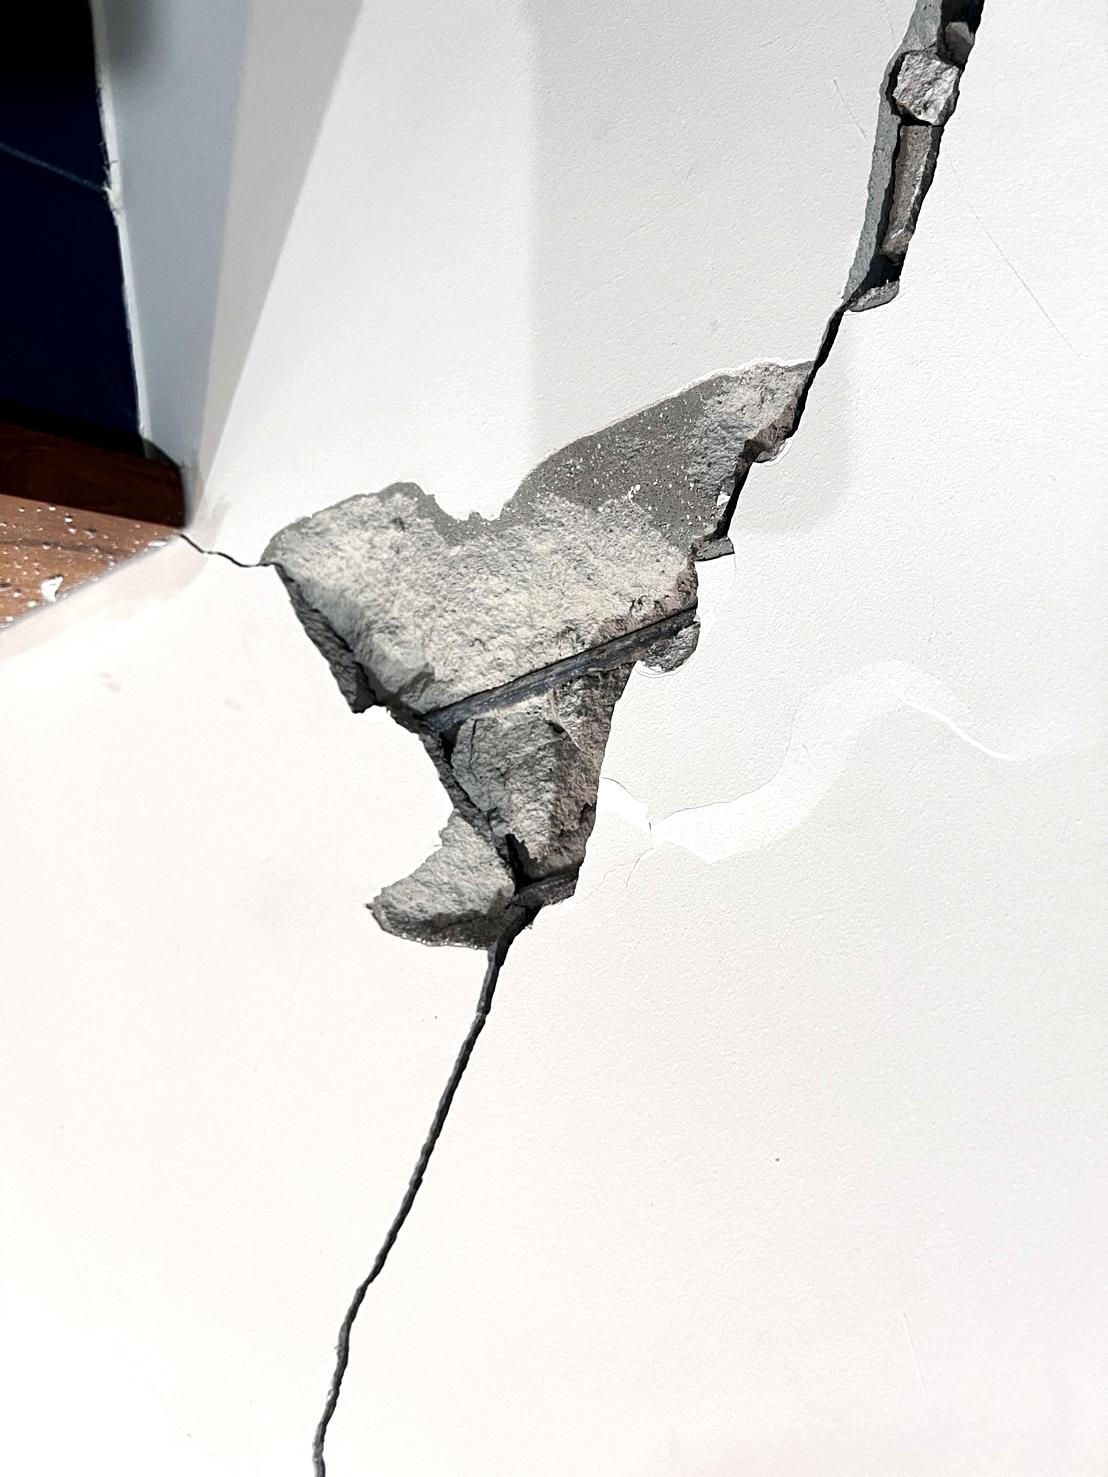High: (236, 3, 1015, 1472)
